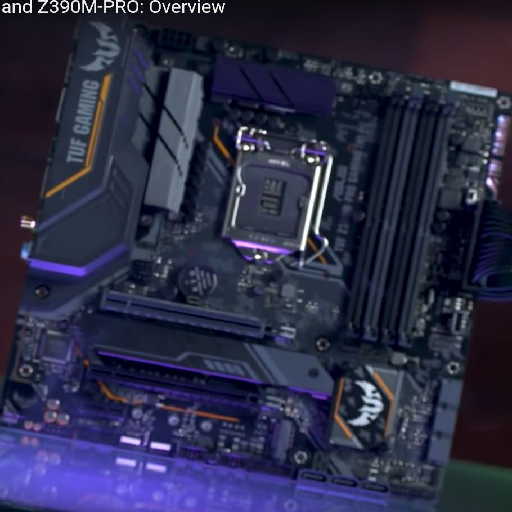CPU: (223, 128, 334, 264)
GPU: (100, 287, 303, 349), (84, 361, 289, 417)
MOTHERBOARD: (4, 14, 507, 508)
RAM: (341, 82, 460, 345)
SSD: (269, 419, 293, 465)
